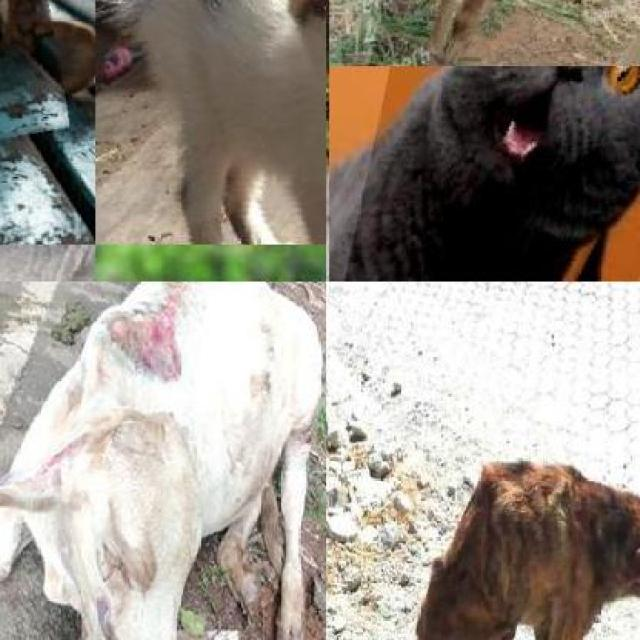cat: (331, 66, 640, 282), (96, 0, 327, 245)
cow: (47, 281, 286, 640), (361, 0, 640, 66)
dog: (354, 429, 640, 640), (0, 0, 68, 220)
injured: (410, 524, 529, 640), (115, 281, 197, 437)
